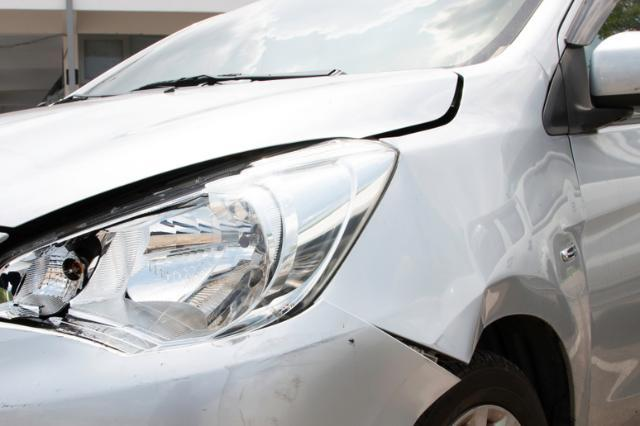Bonnet: (0, 68, 469, 252)
Bumper: (142, 338, 394, 426)
Fender: (324, 118, 599, 379)
